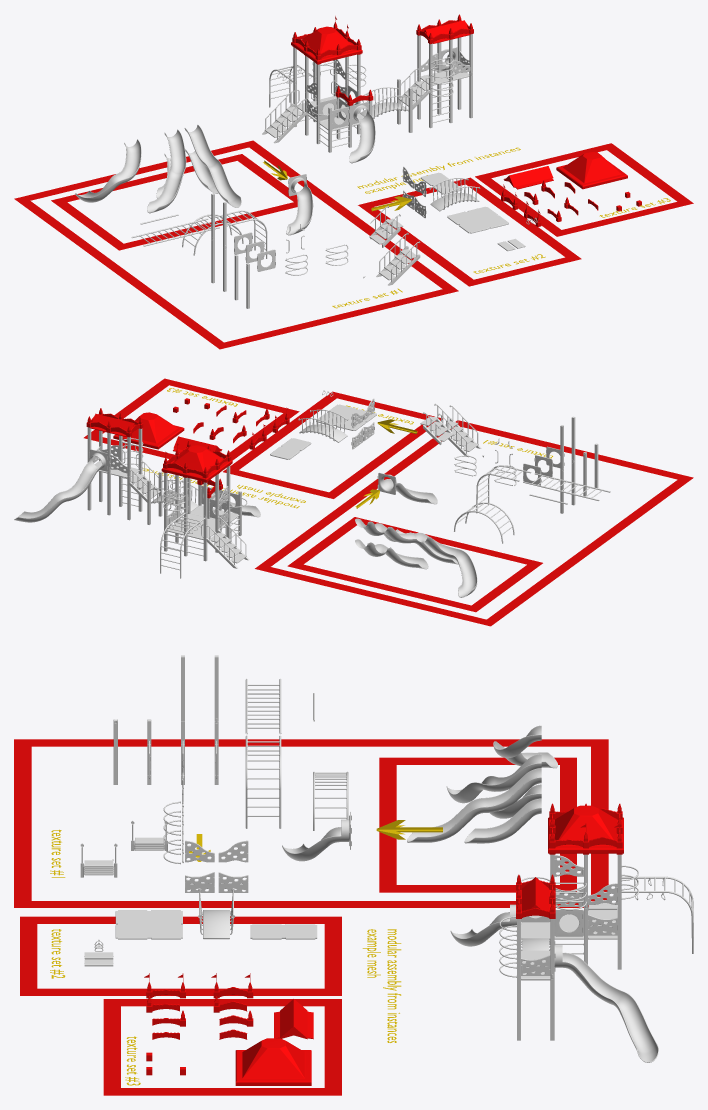
Rendered from PlayGround_01.fbx.
3 renders of one model, top to bottom at view 1: azimuth 30°, elevation 25°; view 2: azimuth 150°, elevation 25°; view 3: azimuth 270°, elevation 25°, orthographic. The views are drawn at different scales.
Visible parts, largest first — view 1: Plane.004, Plane.009, Plane.005, Plane.002, PlayG_roof_big, PlayG_slidehill_06, PlayG_slidehill_05, PlayG_roof_big.001, PlayG_slidehill_07, PlayG_floor_02, PlayG_Ladder_01.002, PlayG_Ladder_01 (+7 smaller); view 2: Plane.004, Plane.009, Plane.002, Plane.005, PlayG_roof_big.001, PlayG_roof_big, PlayG_slidehill_07, PlayG_slidehill_06.001, PlayG_Ladder_01.002, PlayG_Ladder_01, PlayG_floor_02, PlayG_bridge (+15 smaller); view 3: Plane.004, Plane.005, Plane.009, Plane.002, PlayG_roof_big, PlayG_slidehill_06.001, PlayG_roof_big.001, PlayG_slidehill_05, PlayG_floor_02, PlayG_slidehill_06, PlayG_slidehill_03, PlayG_roof_small (+13 smaller).
Boxes of the visible parts, left/top/right/bottom form: Plane.004: left=14, top=140, right=458, bottom=349; Plane.009: left=358, top=177, right=581, bottom=286; Plane.005: left=475, top=143, right=693, bottom=236; Plane.002: left=51, top=154, right=297, bottom=250; PlayG_roof_big: left=556, top=151, right=627, bottom=189; PlayG_slidehill_06: left=147, top=129, right=186, bottom=213; PlayG_slidehill_05: left=184, top=124, right=241, bottom=207; PlayG_roof_big.001: left=291, top=26, right=362, bottom=63; PlayG_slidehill_07: left=75, top=139, right=141, bottom=202; PlayG_floor_02: left=447, top=206, right=508, bottom=233; PlayG_Ladder_01.002: left=262, top=90, right=306, bottom=143; PlayG_Ladder_01: left=376, top=232, right=420, bottom=285; Plane.004: left=255, top=420, right=693, bottom=626; Plane.009: left=223, top=391, right=442, bottom=498; Plane.002: left=287, top=517, right=542, bottom=612; Plane.005: left=84, top=378, right=299, bottom=460; PlayG_roof_big.001: left=161, top=445, right=232, bottom=482; PlayG_roof_big: left=113, top=412, right=184, bottom=449; PlayG_slidehill_07: left=414, top=532, right=477, bottom=597; PlayG_slidehill_06.001: left=14, top=462, right=101, bottom=522; PlayG_Ladder_01.002: left=206, top=516, right=249, bottom=568; PlayG_Ladder_01: left=438, top=405, right=481, bottom=457; PlayG_floor_02: left=316, top=404, right=376, bottom=430; PlayG_bridge: left=298, top=409, right=348, bottom=442; Plane.004: left=14, top=739, right=608, bottom=907; Plane.005: left=103, top=999, right=341, bottom=1095; Plane.009: left=20, top=916, right=341, bottom=995; Plane.002: left=379, top=757, right=576, bottom=892; PlayG_roof_big: left=235, top=1038, right=311, bottom=1085; PlayG_slidehill_06.001: left=564, top=952, right=658, bottom=1062; PlayG_roof_big.001: left=548, top=805, right=623, bottom=853; PlayG_slidehill_05: left=407, top=768, right=541, bottom=842; PlayG_floor_02: left=115, top=910, right=182, bottom=939; PlayG_slidehill_06: left=446, top=754, right=541, bottom=803; PlayG_slidehill_03: left=464, top=798, right=541, bottom=843; PlayG_roof_small: left=274, top=999, right=313, bottom=1039.
Size of the model in its own units: 2508 by 498 by 2024.
